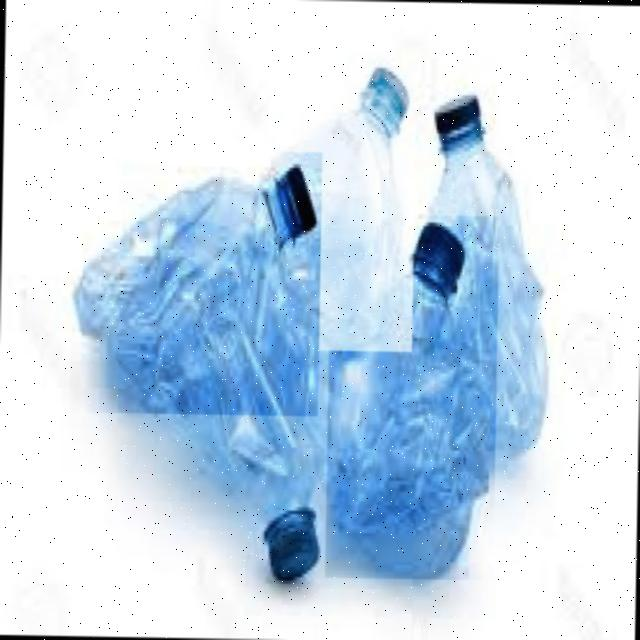bottle: (69, 148, 322, 416), (324, 214, 498, 580), (404, 83, 566, 466), (265, 55, 416, 352)
cap: (424, 85, 490, 150), (262, 516, 322, 578), (412, 222, 468, 288), (278, 162, 319, 244)
